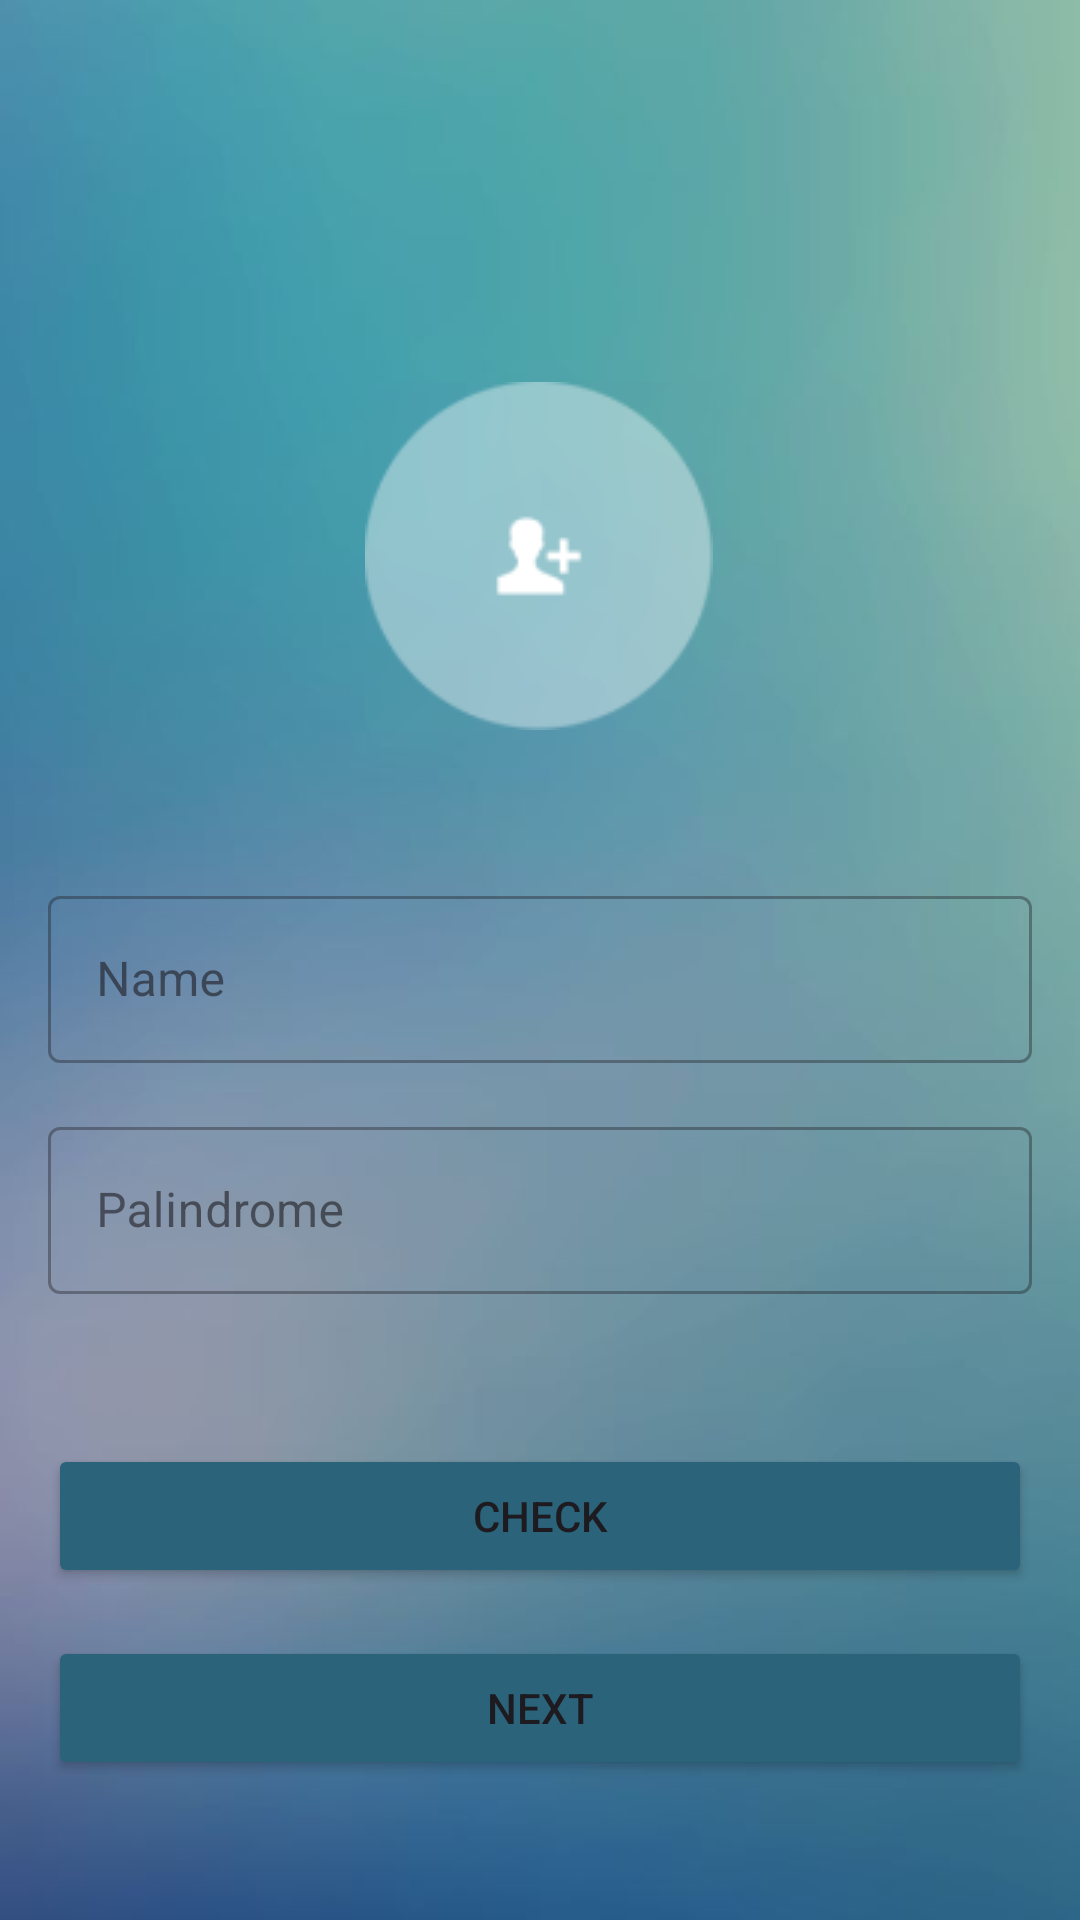

Where icons sit on this 1080 × 1920 app screen, as (x1, y1, x2, y2):
User Image: (365, 382, 713, 730)
